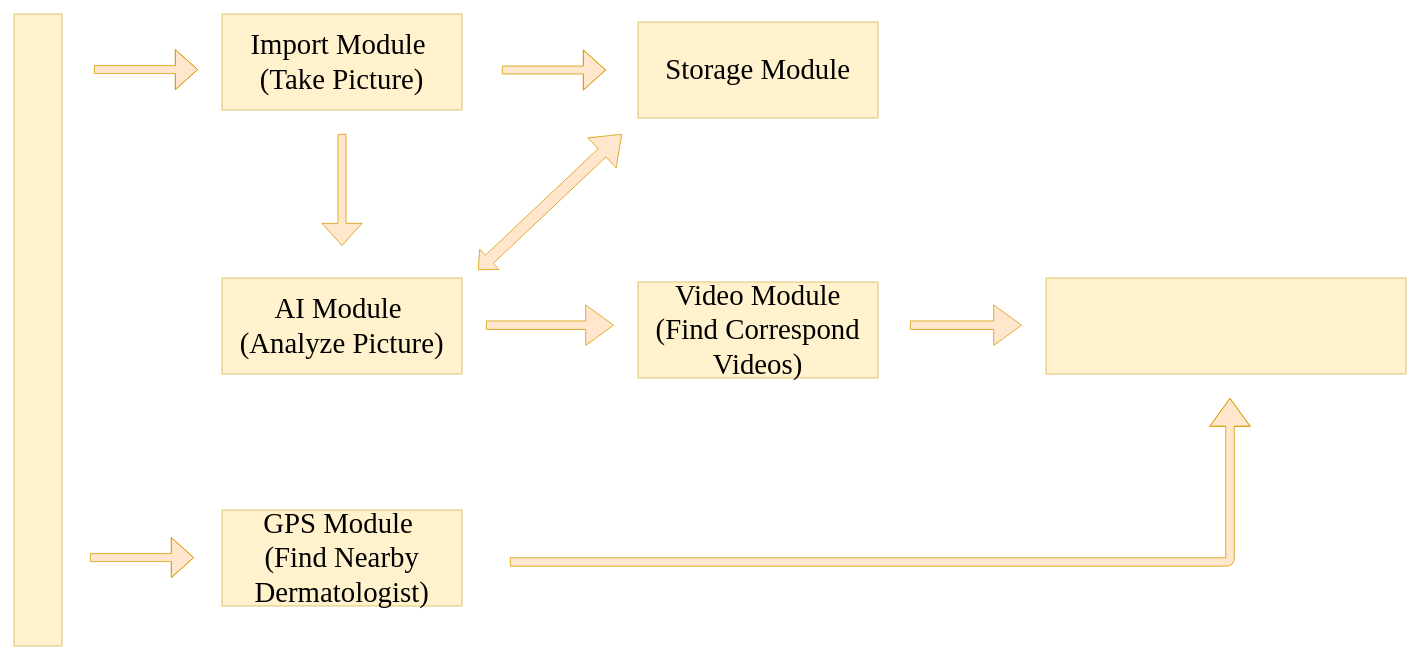
The diagram is 1420 pixels wide and 660 high, and some of its shapes have lost their labels. The shapes that lost their labels are listed below. From the top down, each one's centre as x and y in pixels, then its label:
[37,329]: UI
[1225,325]: Output Module
